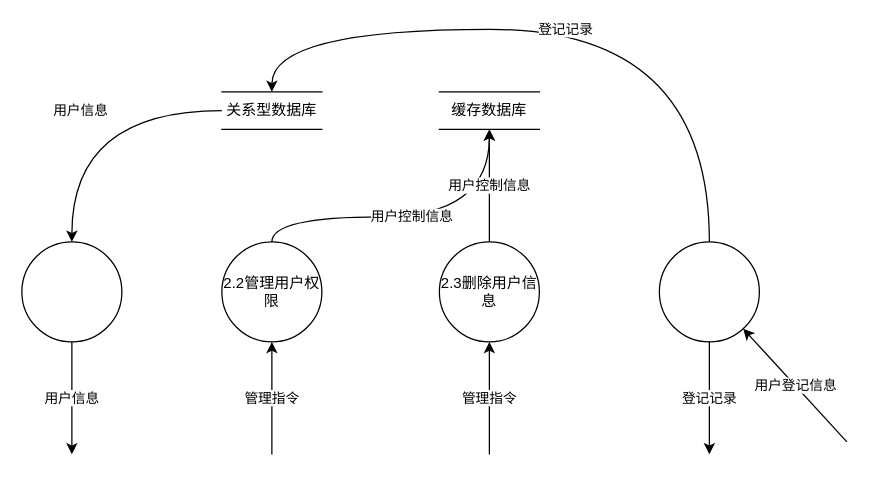
Image size: 879x486. Some labels were removed from this diagram. The shapes that lost their labels are listed below. From the top down, each one's centre as x and y in pixels, then its label:
At pixel 71 291: "2.1查看用户信息".
At pixel 708 291: "2.4登记用户信息".
